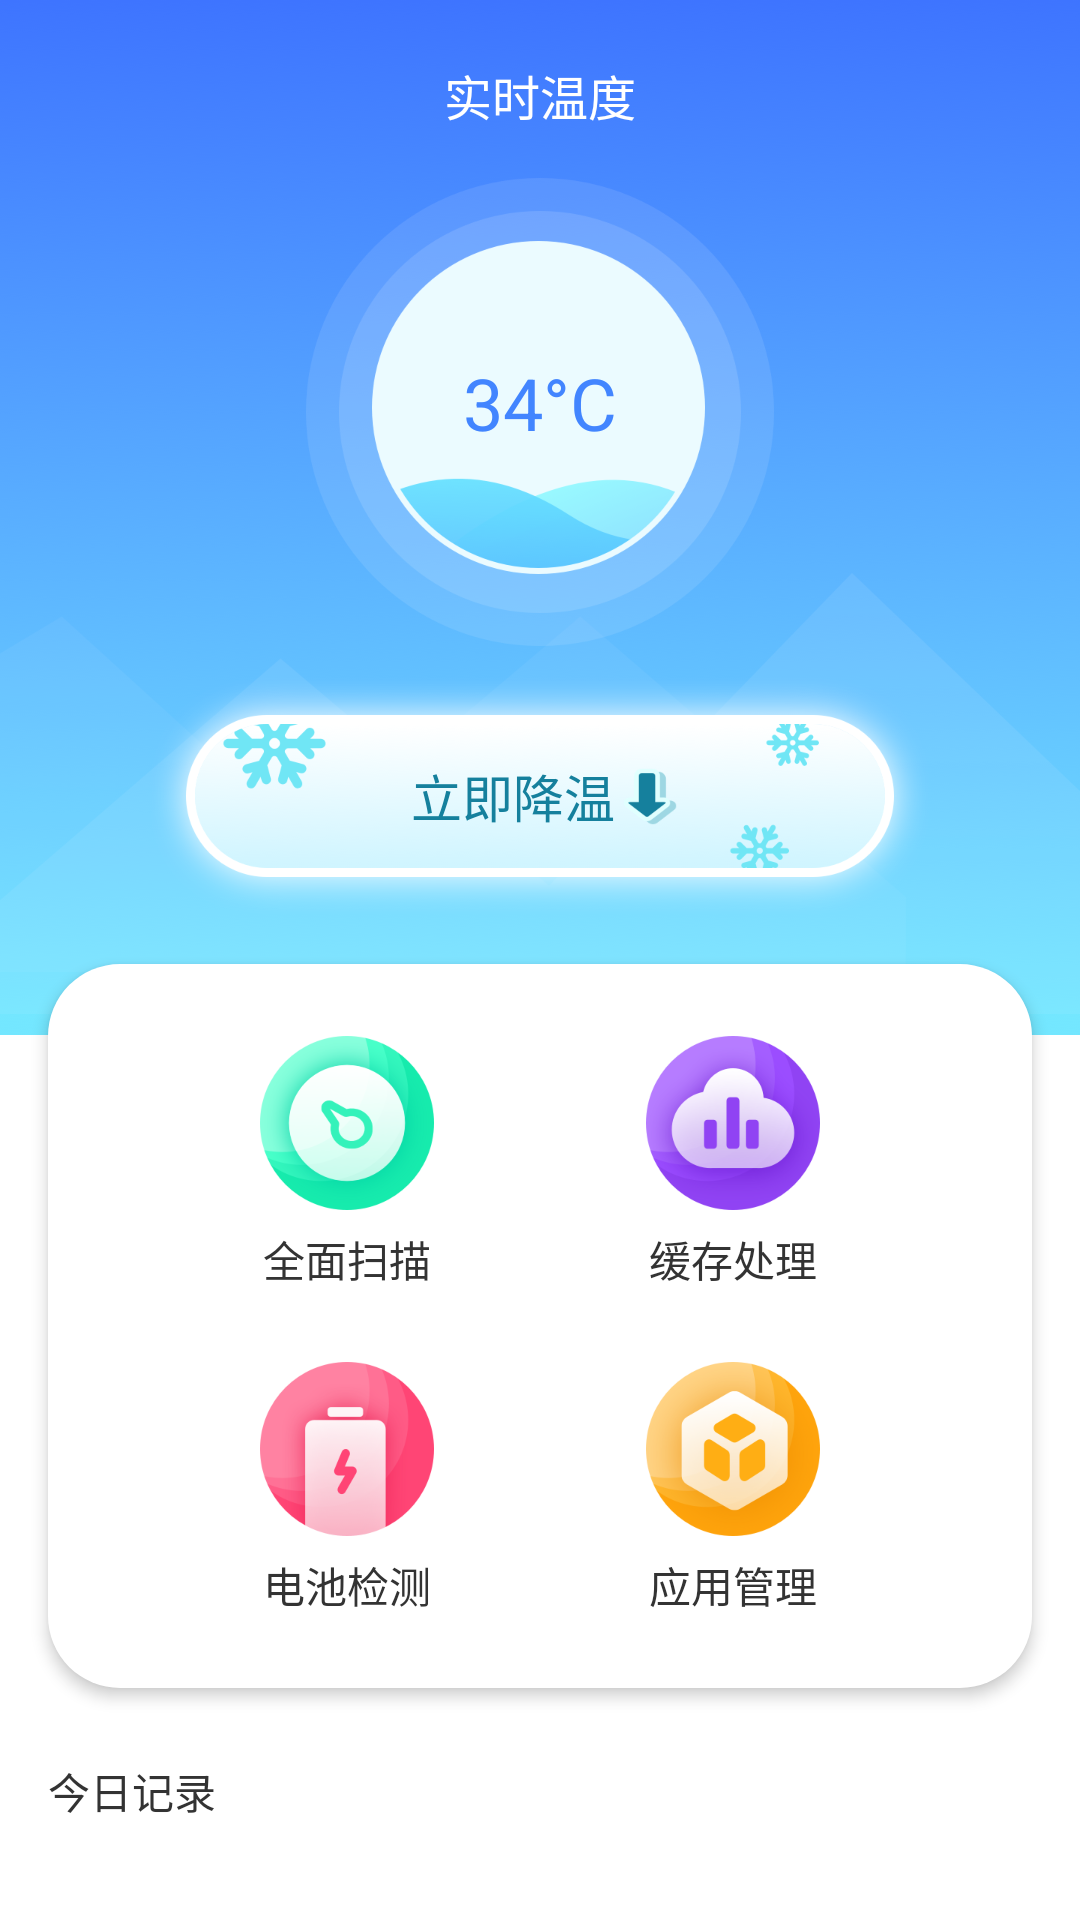

Where icons sit on this 1080 x 1920 app screen, as box=[x1, y1, x2, y2]:
cooling arrow: box=[623, 769, 677, 825]
